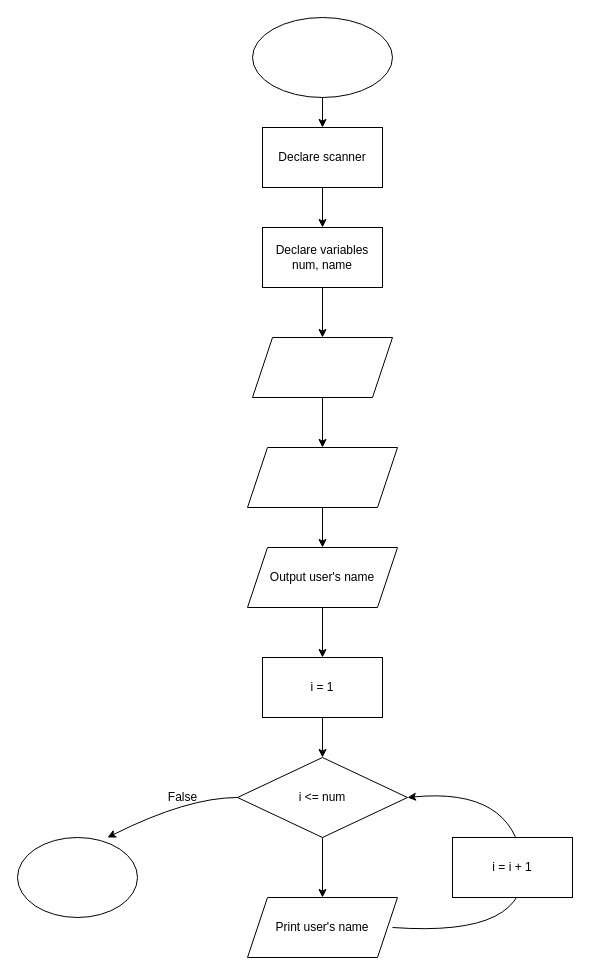
The diagram is 590 pixels wide and 975 high, and some of its shapes have lost their labels. Here are the shapes that lost their labels. From the top down, the centre of each, then its label:
point (322, 57): Begin
point (322, 367): Get the user’s name (name)
point (322, 477): Get the user's number (num)
point (77, 877): End
